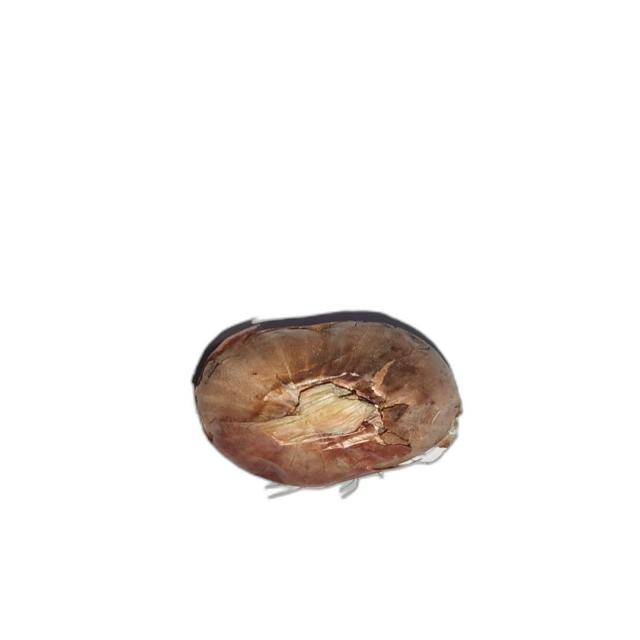onion: (192, 321, 464, 499)
